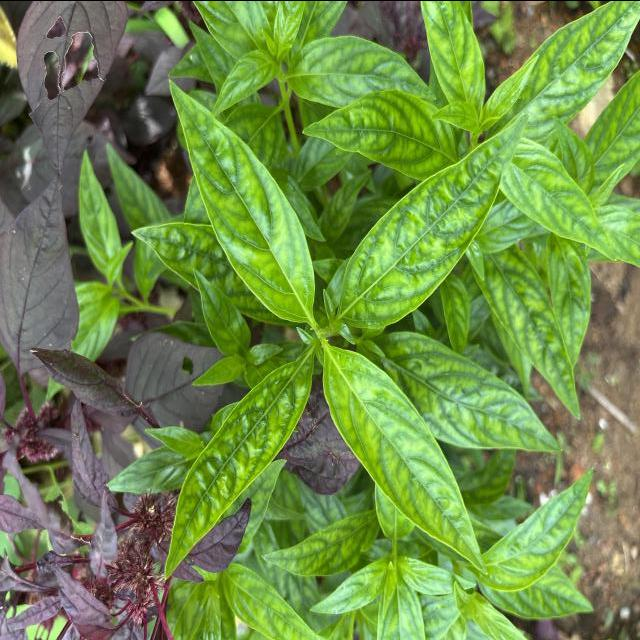Andrographis paniculata: (333, 111, 531, 327), (322, 344, 494, 576), (166, 76, 316, 323), (160, 349, 317, 582), (376, 332, 566, 454), (478, 249, 584, 423), (476, 255, 584, 420), (514, 0, 640, 139), (477, 457, 595, 591), (301, 90, 455, 181), (501, 143, 618, 260), (290, 34, 434, 104), (262, 506, 379, 574)
